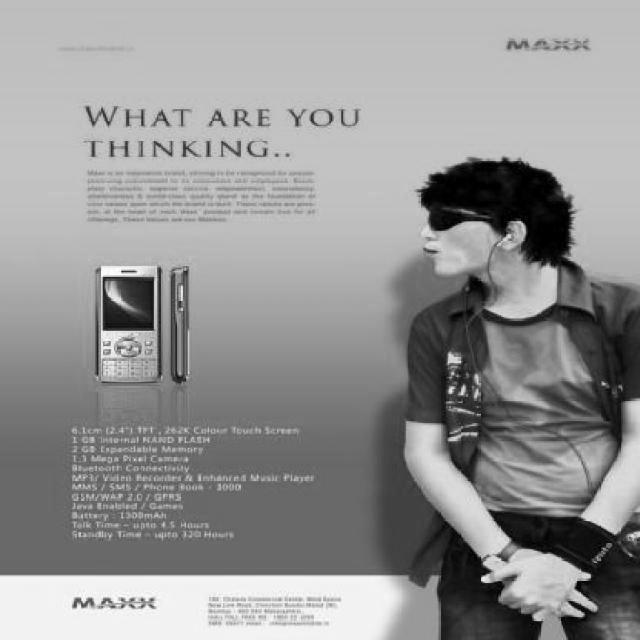fake: (93, 268, 173, 386), (174, 262, 190, 384)
